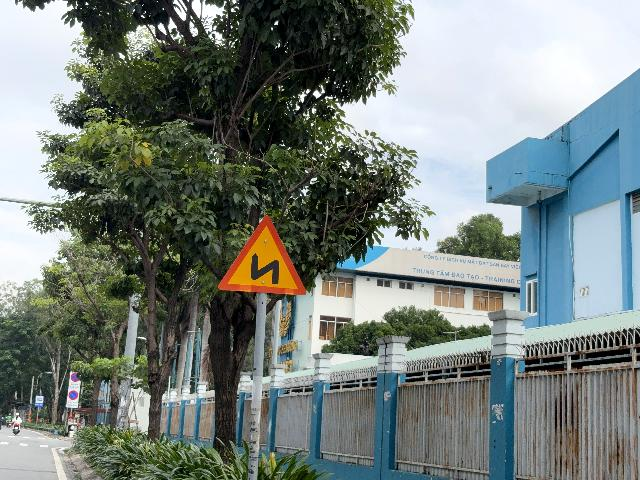nhieu-cho-ngoat-nguy-hiem-lien-tiep: (218, 215, 306, 296)
